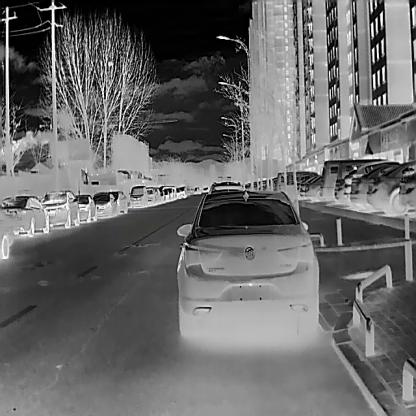car: (176, 190, 319, 346), (320, 158, 386, 204), (366, 160, 415, 213), (350, 162, 402, 208), (0, 194, 49, 236), (39, 188, 80, 226), (398, 171, 416, 211), (92, 190, 119, 216), (74, 193, 96, 222)
truck: (128, 184, 148, 208)
